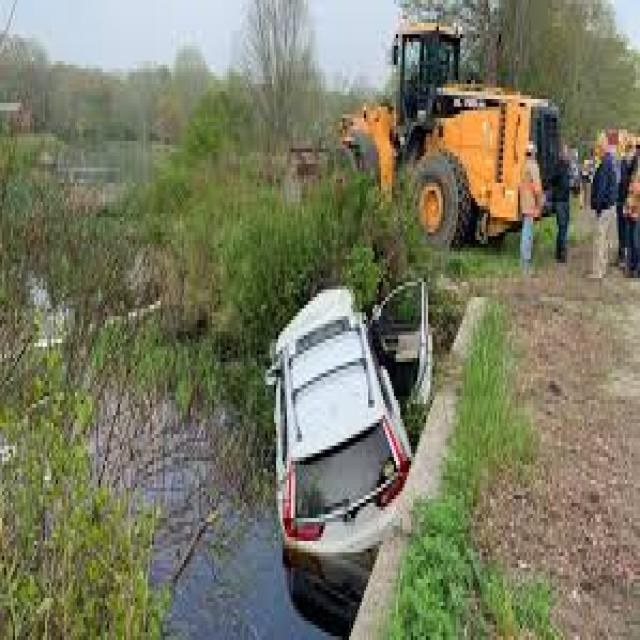accident: (250, 269, 495, 577)
